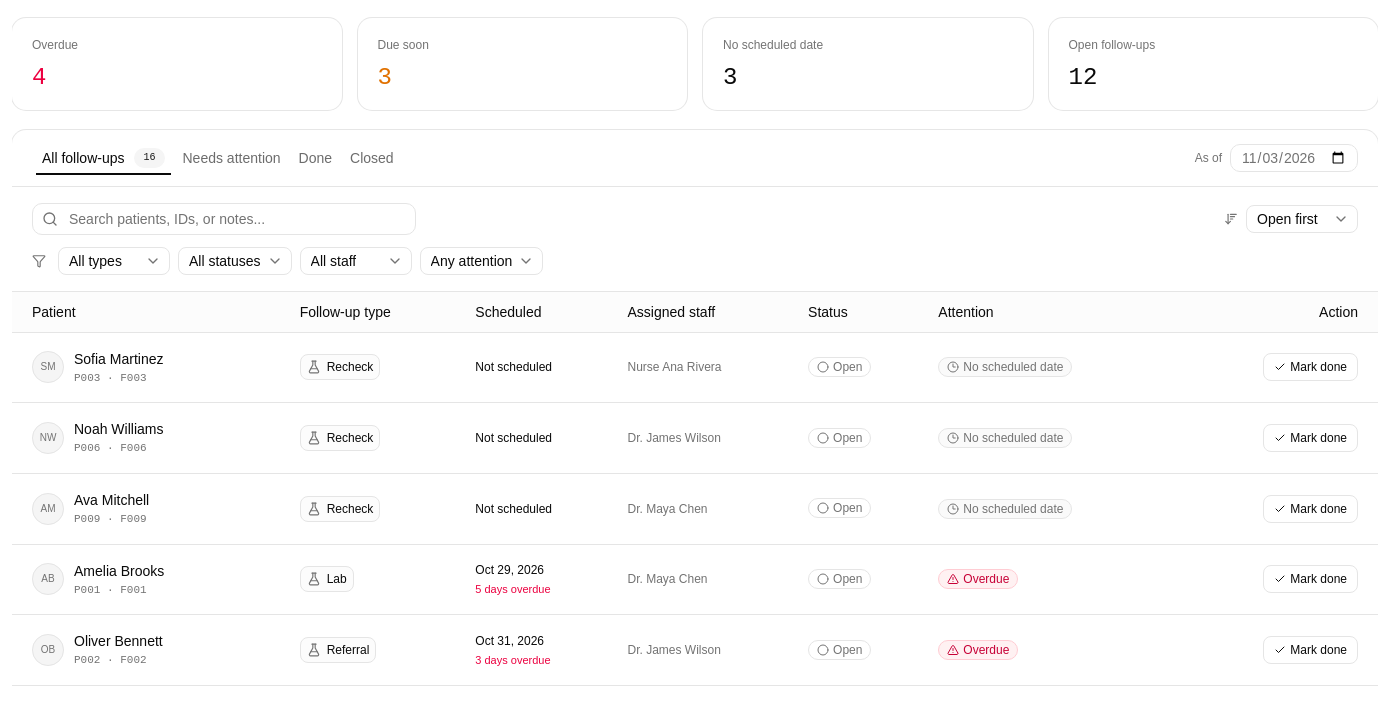
Test: Follow-up worklist › filters by follow-up type using the shadcn select
The width and height of the screenshot is (1390, 703).
Expected: the button "AB Amelia Brooks P001 · F001" is shown, 32,561 -> 164,598
Click the dropdown labelled "All types".
click(114, 261)  # box 58,247 -> 170,275
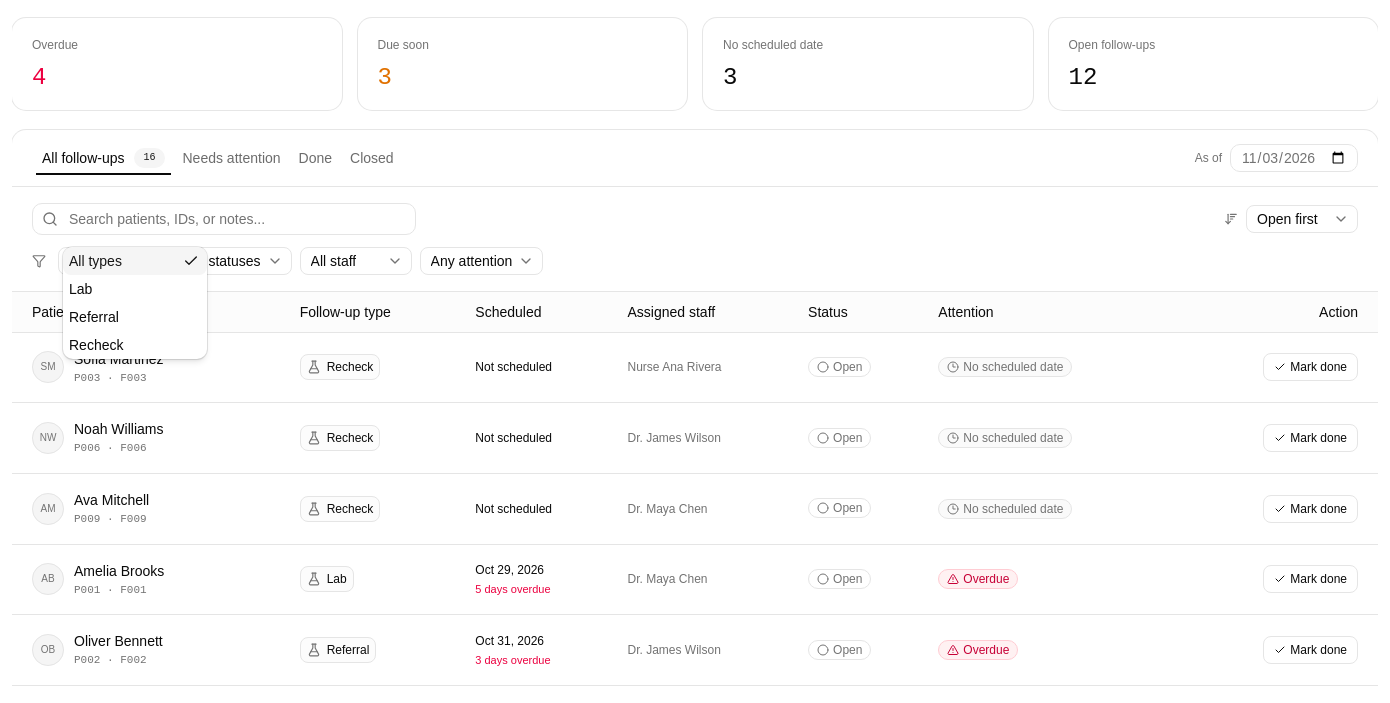
Click the option "Lab".
click(81, 289)  # box 69,281 -> 92,297
(page scrolled)
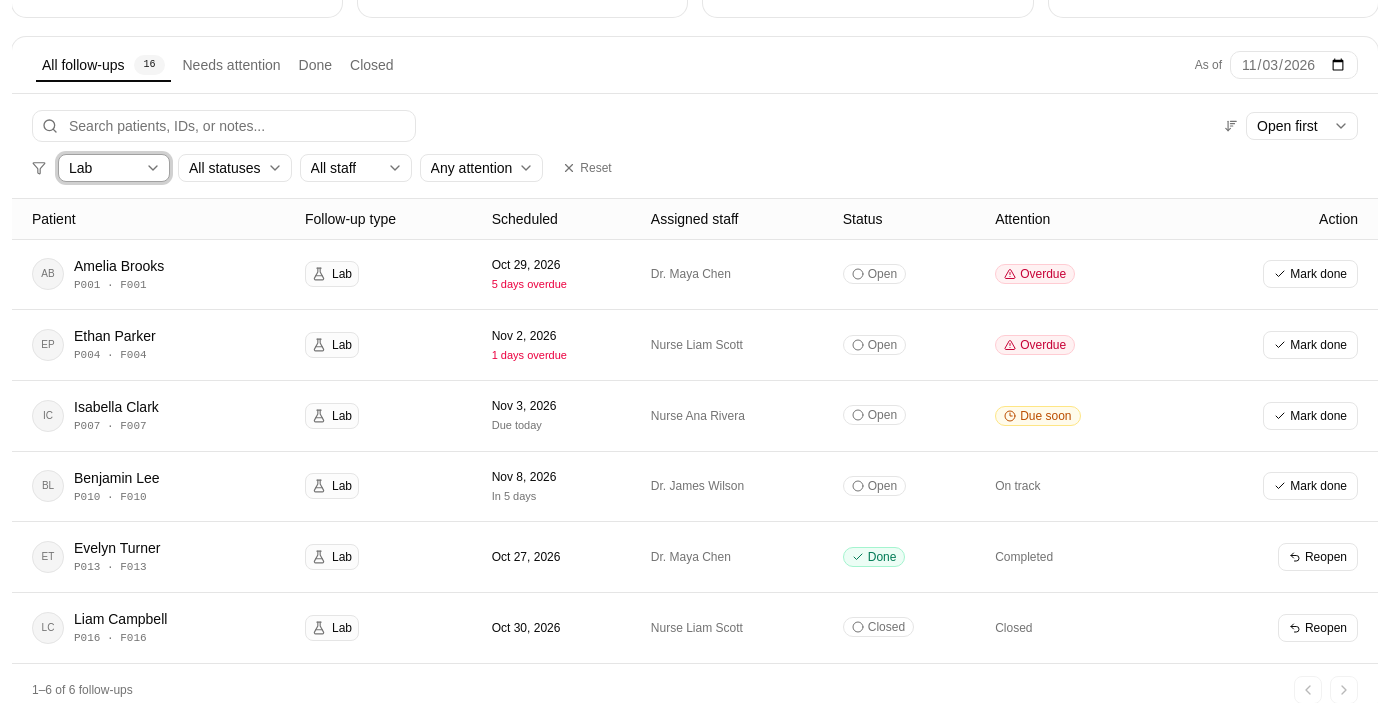
Expected: the button "AB Amelia Brooks P001 · F001" is shown, 32,256 -> 164,293
Now the button "Oliver Bennett" is gone
Now the text "1–6 of 6 follow-ups" is shown, box 32,682 -> 133,698
